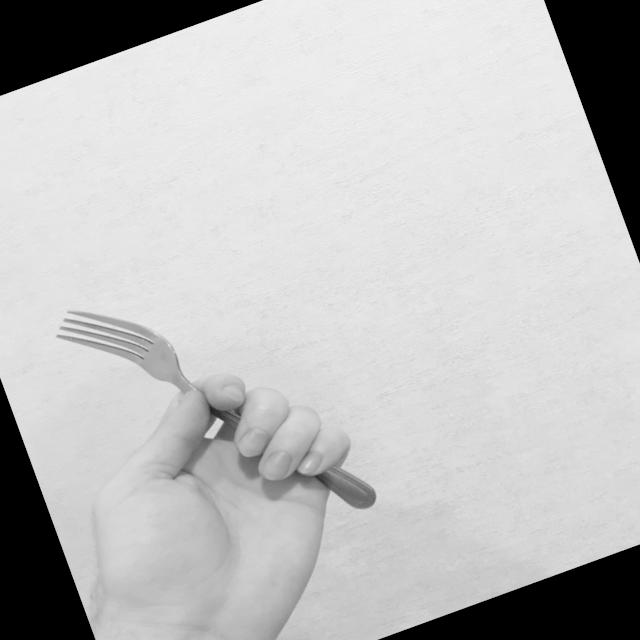fork: (46, 233, 379, 588)
